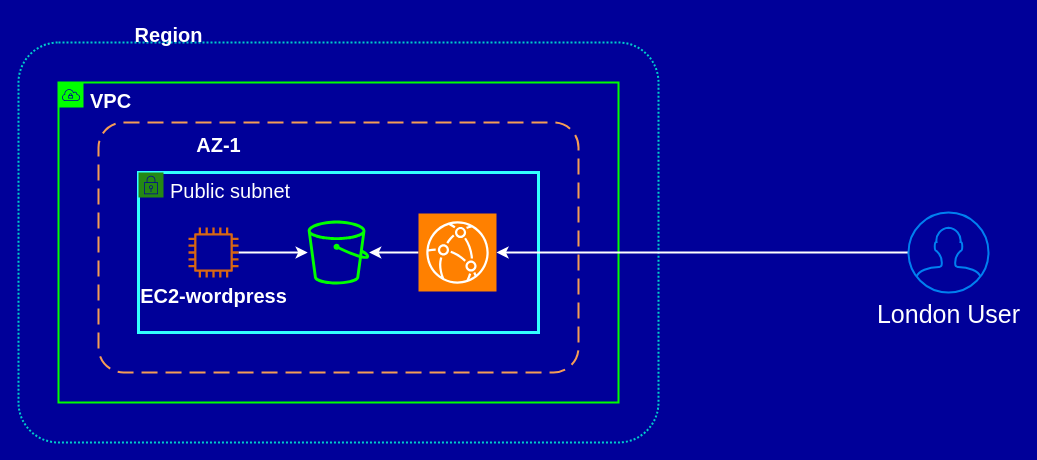
This 1037x460 diagram has some shape labels left out. Here are the shapes that lost their labels. From the top down, the centre of each, then its label:
[338,252]: S3
[457,252]: CloudFront
